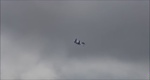maybay_muctieu: (72, 36, 86, 46)
